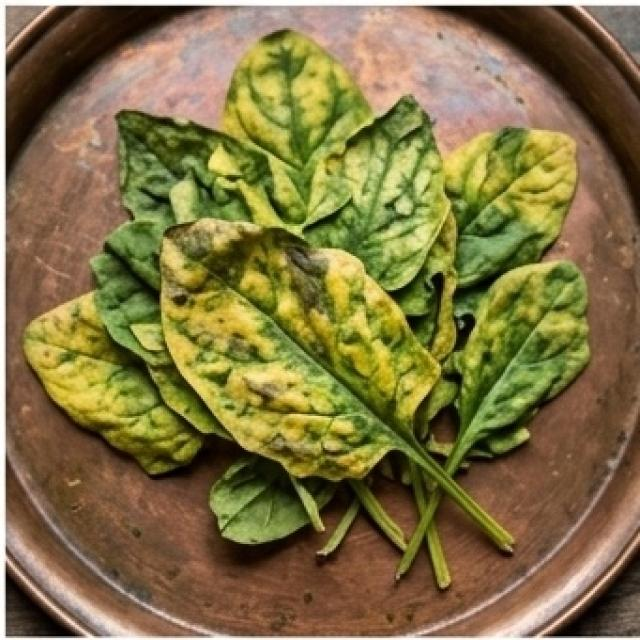rotten spinach: (10, 20, 632, 610), (113, 203, 537, 577)
